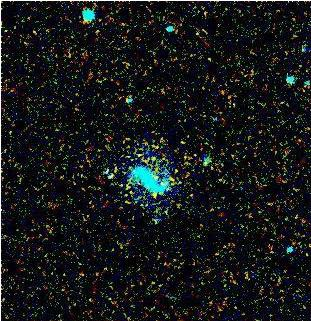star: (138, 180, 168, 210)
